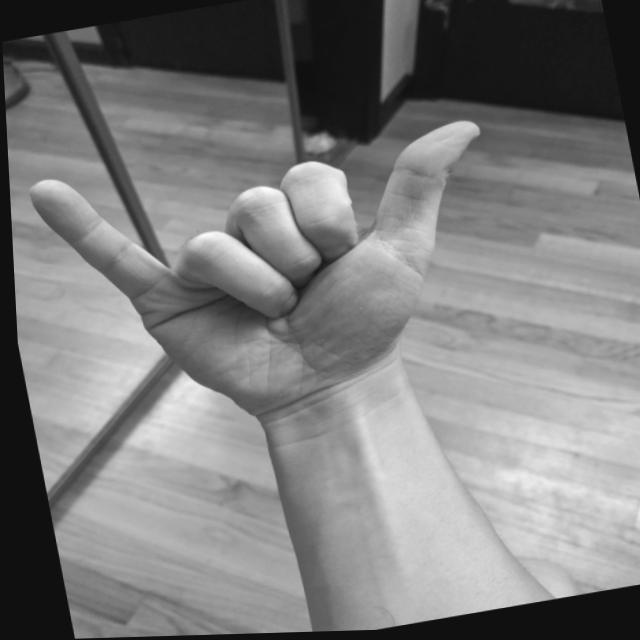Y: (14, 101, 533, 456)
